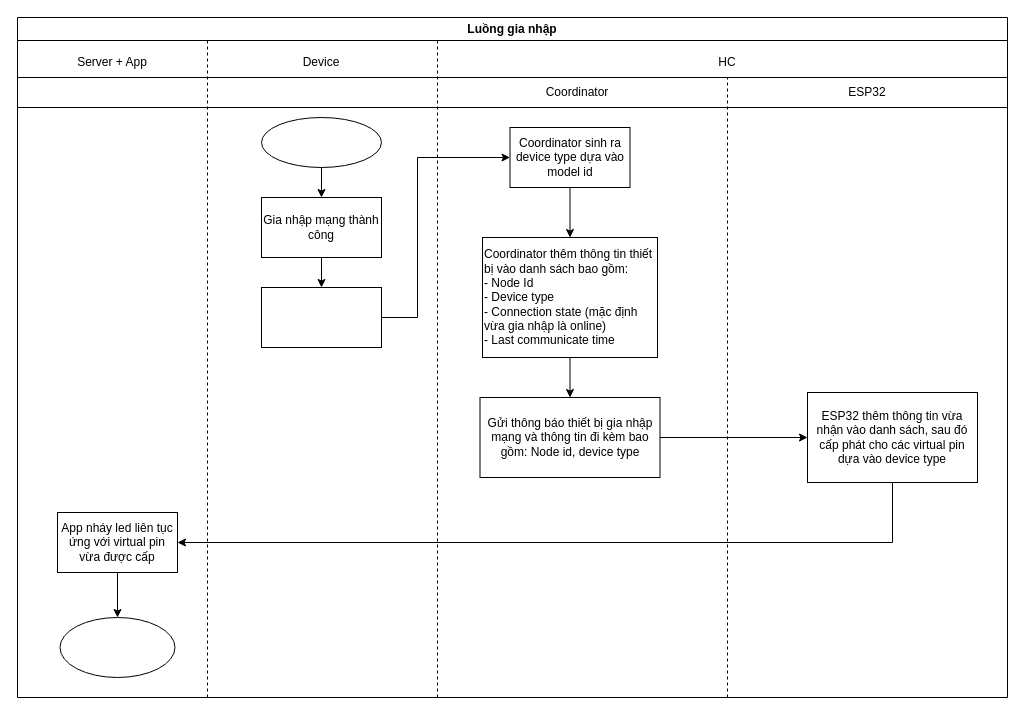
Some shapes in this 1026 by 716 pixel diagram are drawn without their labels. Here are the shapes that lost their labels. From the top down, the box of each, then its label:
(260, 116, 382, 168): BEGIN
(260, 286, 382, 348): Gửi Model ID cho HC
(59, 616, 175, 678): END
